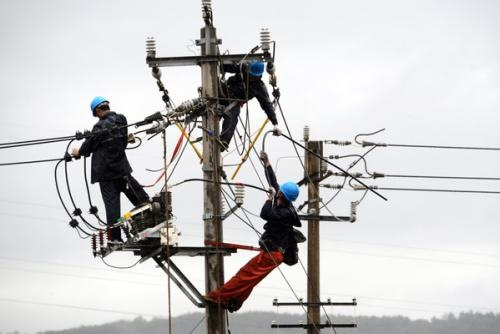blue: (276, 180, 300, 207), (88, 94, 112, 119), (247, 55, 264, 82)
